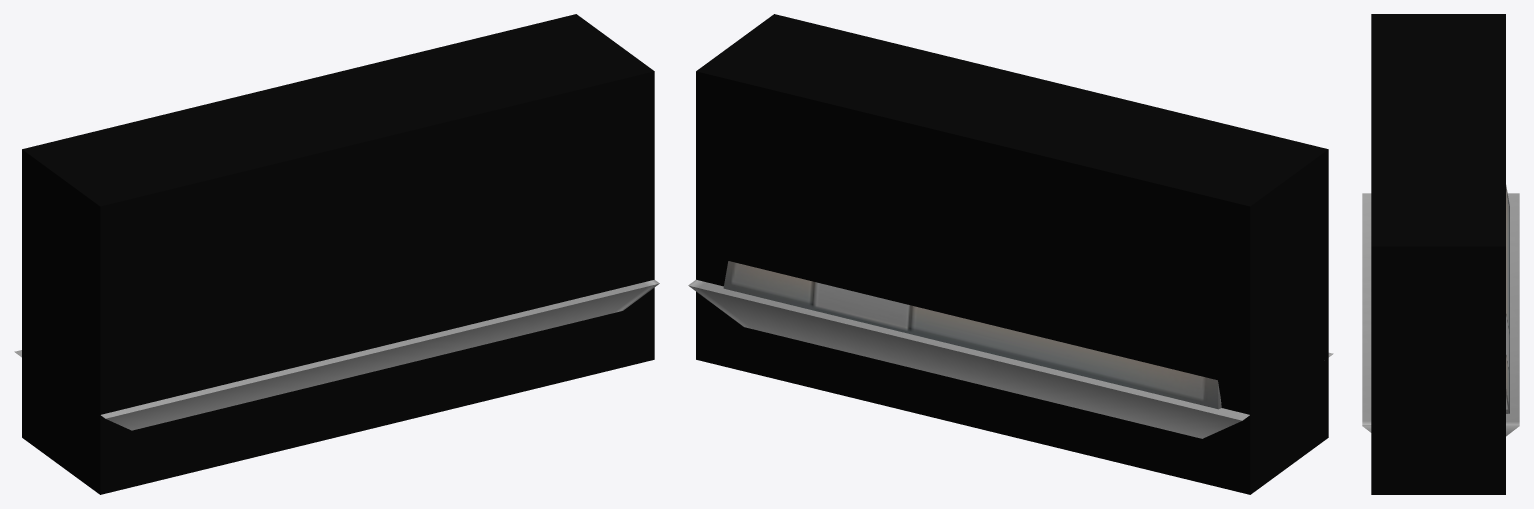
The model's file is subwaysurferstrain2v2.glb.
3 renders of one model, left to right at view 1: azimuth 30°, elevation 25°; view 2: azimuth 150°, elevation 25°; view 3: azimuth 270°, elevation 25°, orthographic. The views are drawn at different scales.
Parts seen in each view (by area): view 1: trainCollide, train2.001; view 2: trainCollide, train2.001; view 3: trainCollide, train2.001.
Part boxes in pixels (bbox=[...]): trainCollide: bbox=[22, 14, 654, 494]; train2.001: bbox=[14, 279, 659, 430]; trainCollide: bbox=[696, 14, 1328, 494]; train2.001: bbox=[688, 261, 1333, 438]; trainCollide: bbox=[1371, 14, 1505, 494]; train2.001: bbox=[1362, 185, 1519, 436].
Bounding box in the file's own units: 14 × 6.96 × 4.
Materials: 2 (2 with a texture image).
